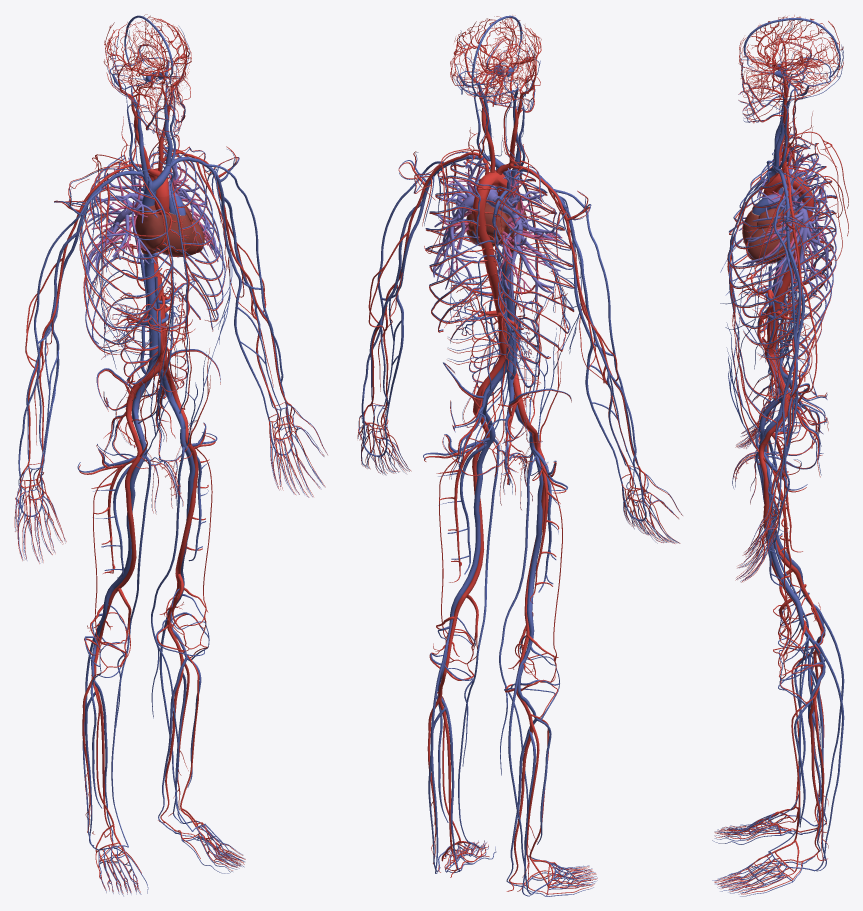
3 views of the same model, side by side, from view 1: azimuth 30°, elevation 25°; view 2: azimuth 150°, elevation 25°; view 3: azimuth 270°, elevation 25° (orthographic). The views are drawn at different scales.
Parts seen in each view (by area): view 1: Vein_Right_Superior_Intercostal_Vein, Artery_Posterior_Intercostal_Arteries_Right, Vein_Left_Superior_Intercostal_Vein, Vein_Great_Saphenous_Vein_Left, Heart_Right_Atrium, Vein_Great_Saphenous_Vein_Right, Heart_Right_Ventricle, Artery_Posterior_Intercostal_Arteries_Left, Artery_Femoral_Artery_Right, Vein_Cephalic_Vein_Right, Artery_Femoral_Artery_Left, Vein_Cephalic_Vein_Left (+2 smaller); view 2: Artery_Posterior_Intercostal_Arteries_Right, Vein_Right_Superior_Intercostal_Vein, Vein_Left_Superior_Intercostal_Vein, Artery_Posterior_Intercostal_Arteries_Left, Vein_Great_Saphenous_Vein_Left, Vein_Great_Saphenous_Vein_Right, Vein_Femoral_Vein_Left, Vein_Femoral_Vein_Right, Vein_Cephalic_Vein_Right, Artery_Thoracic_Aorta, Vein_Basilic_Vein_Right, Artery_Femoral_Artery_Left (+4 smaller); view 3: Vein_Left_Superior_Intercostal_Vein, Artery_Posterior_Intercostal_Arteries_Left, Vein_Cephalic_Vein_Left, Vein_Right_Superior_Intercostal_Vein, Heart_Left_Ventricle, Vein_Small_Saphenous_Vein_Left, Artery_Femoral_Artery_Left, Artery_Abdominal_Aorta, Vein_Great_Saphenous_Vein_Right, Vein_Small_Saphenous_Vein_Right, Vein_Great_Saphenous_Vein_Left, Artery_Posterior_Intercostal_Arteries_Right (+24 smaller).
Part boxes in pixels (<box>): Vein_Right_Superior_Intercostal_Vein: <box>81,155,172,351</box>; Artery_Posterior_Intercostal_Arteries_Right: <box>79,163,169,354</box>; Vein_Left_Superior_Intercostal_Vein: <box>144,147,225,330</box>; Vein_Great_Saphenous_Vein_Left: <box>151,446,192,831</box>; Heart_Right_Atrium: <box>135,205,170,254</box>; Vein_Great_Saphenous_Vein_Right: <box>111,456,151,846</box>; Heart_Right_Ventricle: <box>155,212,197,256</box>; Artery_Posterior_Intercostal_Arteries_Left: <box>149,153,225,331</box>; Artery_Femoral_Artery_Right: <box>115,431,142,590</box>; Vein_Cephalic_Vein_Right: <box>18,187,101,488</box>; Artery_Femoral_Artery_Left: <box>175,419,198,575</box>; Vein_Cephalic_Vein_Left: <box>202,162,289,422</box>; Artery_Posterior_Intercostal_Arteries_Right: <box>478,187,574,358</box>; Vein_Right_Superior_Intercostal_Vein: <box>493,170,574,357</box>; Vein_Left_Superior_Intercostal_Vein: <box>425,156,502,331</box>; Artery_Posterior_Intercostal_Arteries_Left: <box>425,177,501,332</box>; Vein_Great_Saphenous_Vein_Left: <box>458,439,499,844</box>; Vein_Great_Saphenous_Vein_Right: <box>499,451,539,859</box>; Vein_Femoral_Vein_Left: <box>458,423,495,594</box>; Vein_Femoral_Vein_Right: <box>527,434,543,609</box>; Vein_Cephalic_Vein_Right: <box>554,189,643,496</box>; Artery_Thoracic_Aorta: <box>472,196,497,275</box>; Vein_Basilic_Vein_Right: <box>572,238,622,483</box>; Artery_Femoral_Artery_Left: <box>462,418,489,598</box>; Vein_Left_Superior_Intercostal_Vein: <box>729,163,836,358</box>; Artery_Posterior_Intercostal_Arteries_Left: <box>729,175,836,359</box>; Vein_Cephalic_Vein_Left: <box>774,197,796,519</box>; Vein_Right_Superior_Intercostal_Vein: <box>729,144,836,304</box>; Heart_Left_Ventricle: <box>748,224,793,263</box>; Vein_Small_Saphenous_Vein_Left: <box>803,640,844,871</box>; Artery_Femoral_Artery_Left: <box>759,431,793,601</box>; Artery_Abdominal_Aorta: <box>764,266,793,354</box>; Vein_Great_Saphenous_Vein_Right: <box>755,432,820,820</box>; Vein_Small_Saphenous_Vein_Right: <box>803,604,844,826</box>; Vein_Great_Saphenous_Vein_Left: <box>755,452,820,851</box>; Artery_Posterior_Intercostal_Arteries_Right: <box>729,153,836,308</box>.
Size of the model in its own units: 0.664 by 1.7 by 0.2489.
